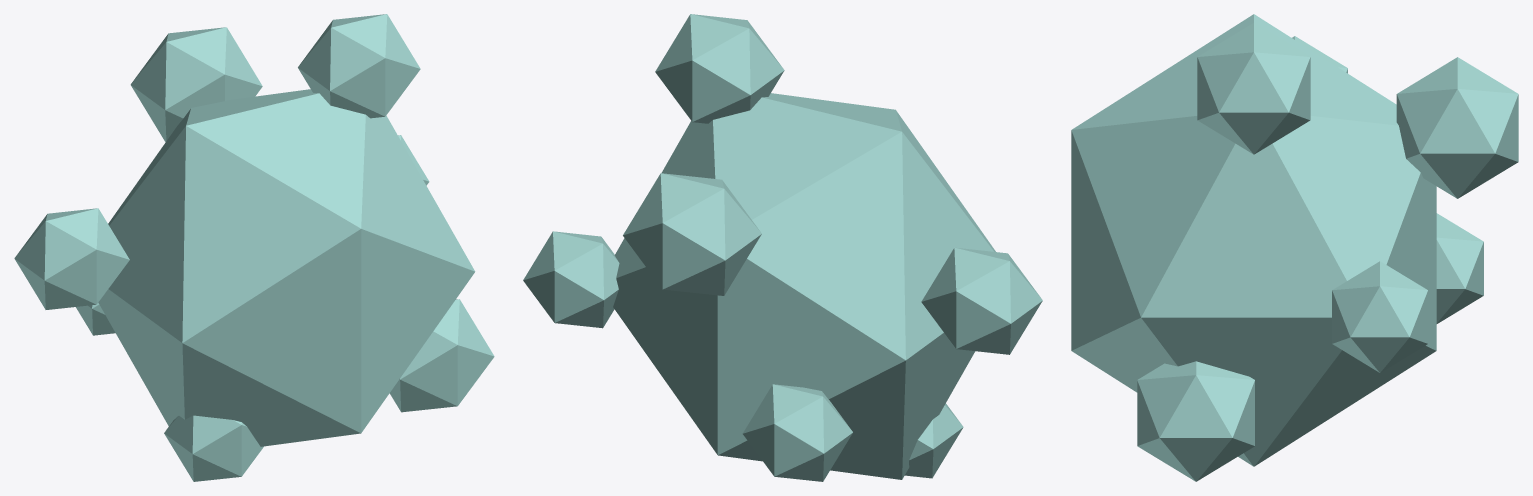
File: bolita-verdemar.glb
The picture shows the model from 3 angles, left to right: view 1: azimuth 30°, elevation 25°; view 2: azimuth 150°, elevation 25°; view 3: azimuth 270°, elevation 25°; orthographic projection. The views are drawn at different scales.
Visible parts, largest first — view 1: bolita-gemelo; view 2: bolita-gemelo; view 3: bolita-gemelo.
Boxes of the visible parts, box(x1,y1,x2,y2) form: bolita-gemelo: box(14, 14, 494, 481); bolita-gemelo: box(523, 14, 1042, 481); bolita-gemelo: box(1071, 14, 1518, 481).
Size of the model in its own units: 0.3709 by 0.3355 by 0.3125.
